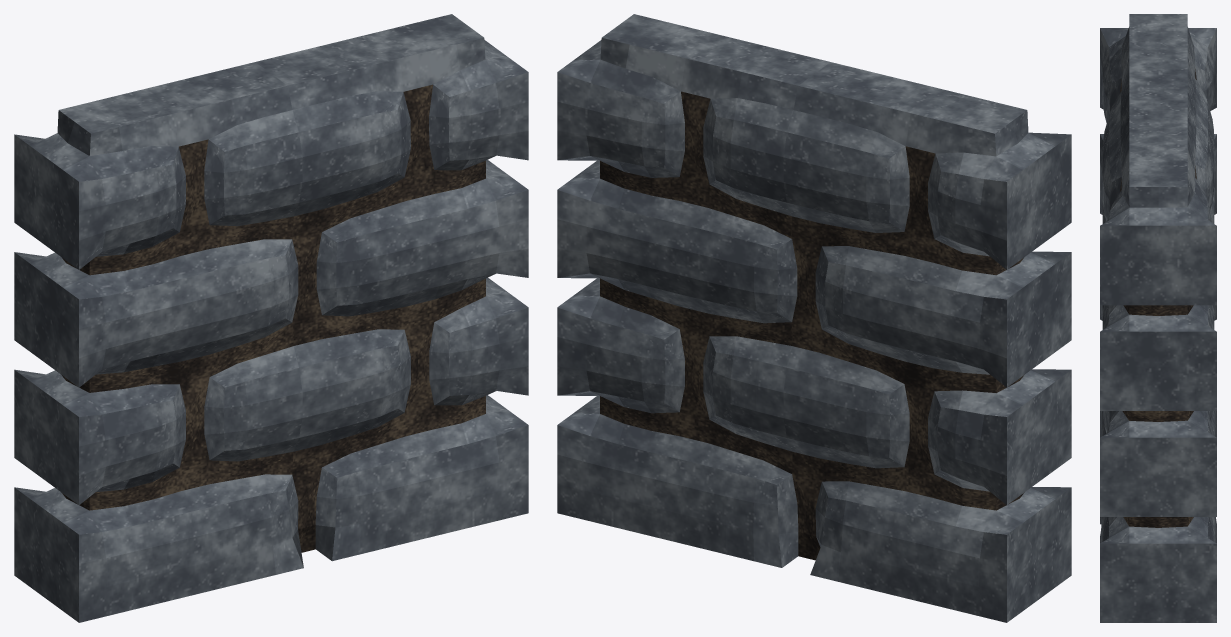
Rendered from wall.glb.
The picture shows the model from 3 angles, left to right: view 1: azimuth 30°, elevation 25°; view 2: azimuth 150°, elevation 25°; view 3: azimuth 270°, elevation 25°; orthographic projection. The views are drawn at different scales.
Parts seen in each view (by area): view 1: crypt_wall; view 2: crypt_wall; view 3: crypt_wall.
Boxes of the visible parts, x1,y1,x2,y2 form: crypt_wall: (14,14,528,622); crypt_wall: (557,14,1071,622); crypt_wall: (1100,14,1216,622).
Bounding box in the file's own units: 1 × 1 × 0.25.
1 material, 1 textured.
